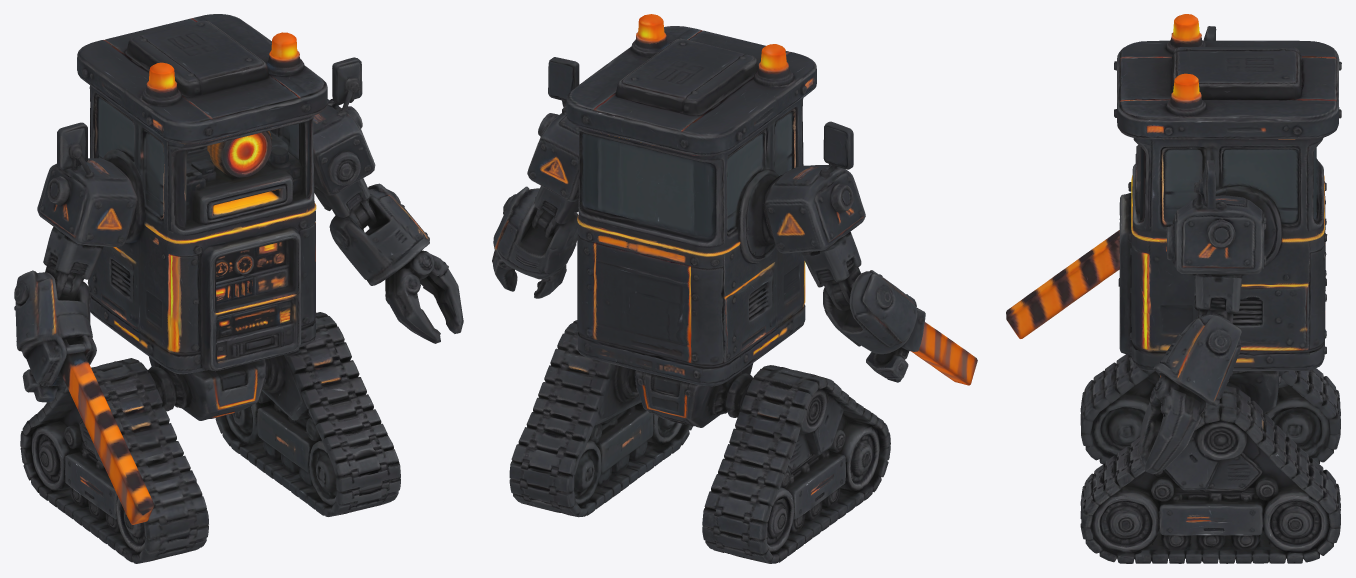
File: boss-10.glb
The picture shows the model from 3 angles, left to right: view 1: azimuth 30°, elevation 25°; view 2: azimuth 150°, elevation 25°; view 3: azimuth 270°, elevation 25°; orthographic projection.
Parts seen in each view (by area): view 1: body, trackR, trackL, forearmR, forearmL, shoulderR, shoulderL; view 2: body, trackR, trackL, shoulderR, forearmR, shoulderL, forearmL; view 3: body, trackL, trackR, shoulderL, forearmL, forearmR.
Boxes of the visible parts, bbox=[...] form: body: bbox=[57, 14, 327, 420]; trackR: bbox=[20, 358, 208, 563]; trackL: bbox=[215, 312, 400, 516]; forearmR: bbox=[14, 270, 154, 524]; forearmL: bbox=[329, 183, 463, 343]; shoulderR: bbox=[37, 143, 137, 300]; shoulderL: bbox=[313, 57, 376, 230]; body: bbox=[566, 14, 853, 427]; trackR: bbox=[702, 365, 890, 563]; trackL: bbox=[509, 320, 693, 517]; shoulderR: bbox=[762, 164, 865, 310]; forearmR: bbox=[823, 270, 977, 385]; shoulderL: bbox=[527, 57, 579, 238]; forearmL: bbox=[492, 186, 578, 298]; body: bbox=[1114, 14, 1341, 413]; trackL: bbox=[1080, 386, 1340, 563]; trackR: bbox=[1080, 354, 1340, 464]; shoulderL: bbox=[1166, 160, 1266, 322]; forearmL: bbox=[1139, 313, 1241, 474]; forearmR: bbox=[1006, 230, 1119, 338].
Bounding box in the file's own units: 0.9767 × 1 × 0.6649.
Materials: 1 (1 with a texture image).
